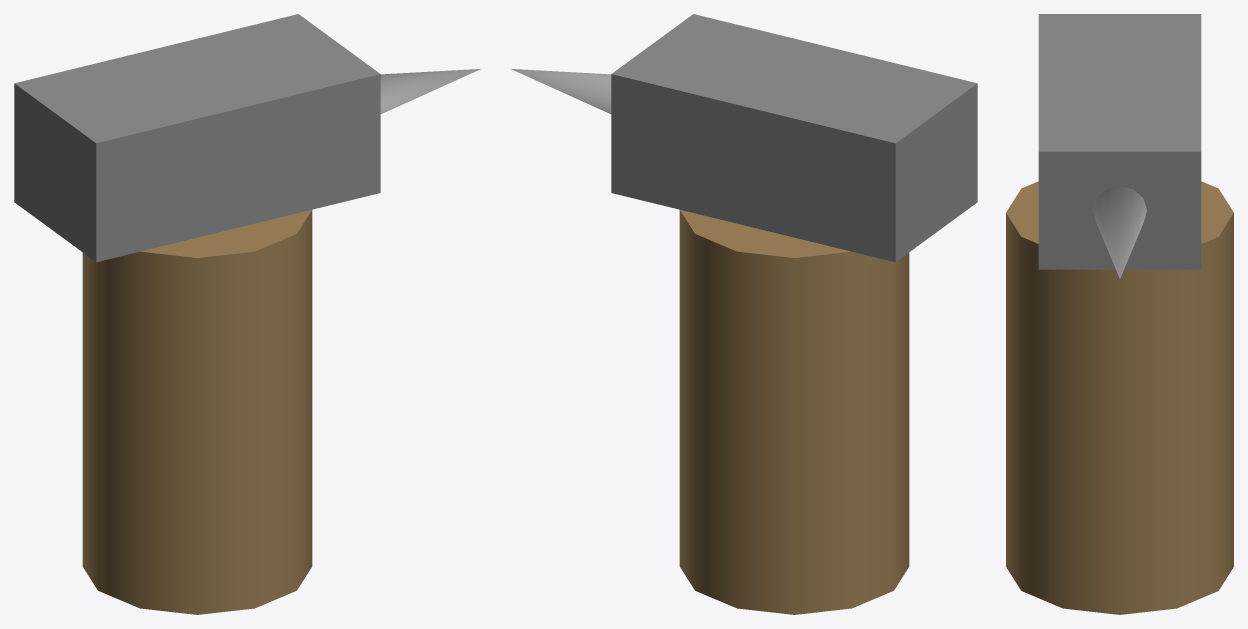
Rendered from env-med-anvil.glb.
3 renders of one model, left to right at view 1: azimuth 30°, elevation 25°; view 2: azimuth 150°, elevation 25°; view 3: azimuth 270°, elevation 25°, orthographic.
Bounding box in the file's own units: 0.75 × 0.82 × 0.35.
